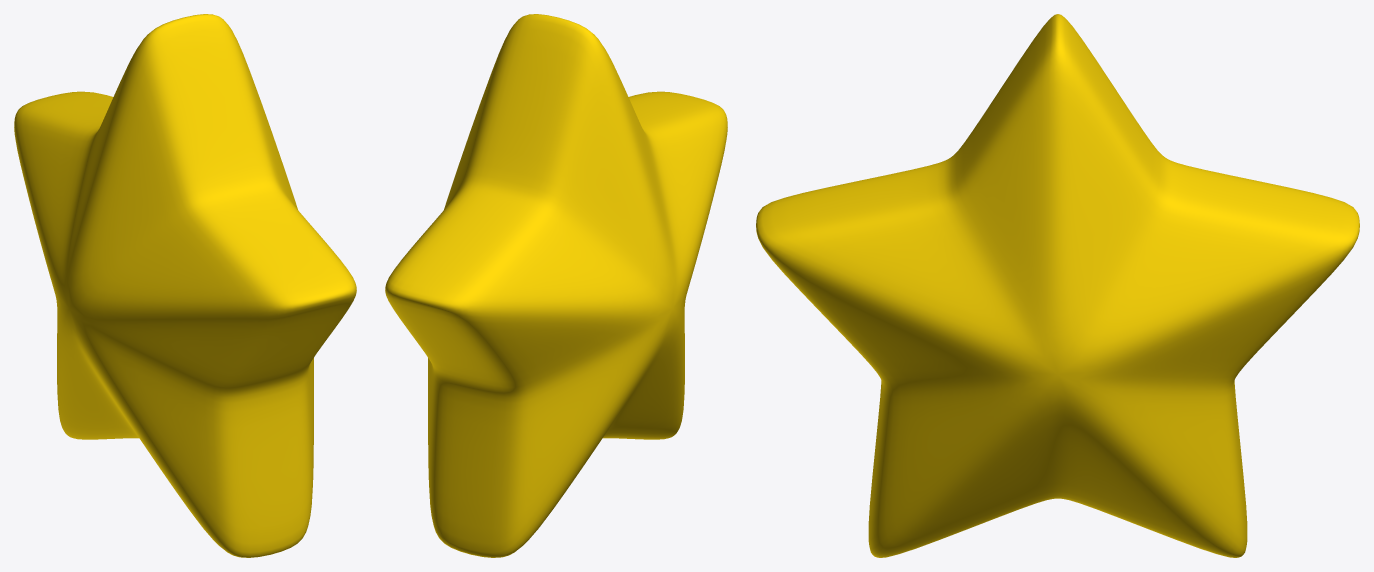
File: star.glb
3 renders of one model, left to right at view 1: azimuth 30°, elevation 25°; view 2: azimuth 150°, elevation 25°; view 3: azimuth 270°, elevation 25°, orthographic. The views are drawn at different scales.
Parts seen in each view (by area): view 1: 柱体; view 2: 柱体; view 3: 柱体.
Part boxes in pixels (bbox=[...]): 柱体: bbox=[14, 14, 356, 557]; 柱体: bbox=[385, 14, 727, 557]; 柱体: bbox=[756, 14, 1359, 557].
Size of the model in its own units: 0.8902 by 1.74 by 1.83.
